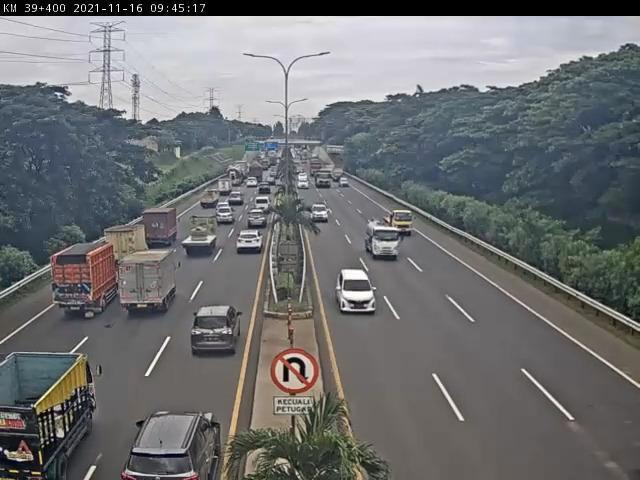car: (192, 307, 243, 355), (337, 269, 377, 315), (235, 237, 263, 261), (244, 218, 267, 241), (309, 203, 330, 224), (213, 210, 233, 229), (254, 198, 273, 217), (228, 191, 247, 208)
truck: (1, 348, 103, 480), (49, 245, 117, 322), (115, 257, 173, 318), (101, 228, 146, 272), (138, 210, 177, 252), (179, 216, 217, 258), (366, 222, 401, 260), (383, 211, 416, 237), (198, 189, 220, 209)
